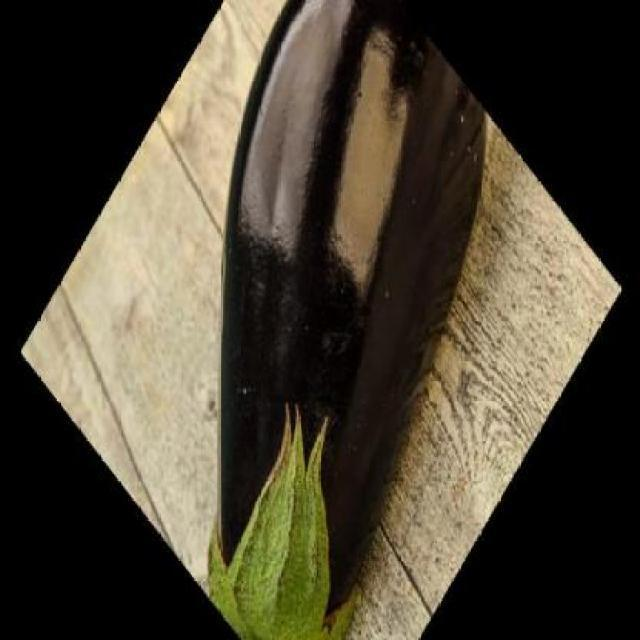eggplant: (53, 0, 578, 638)
